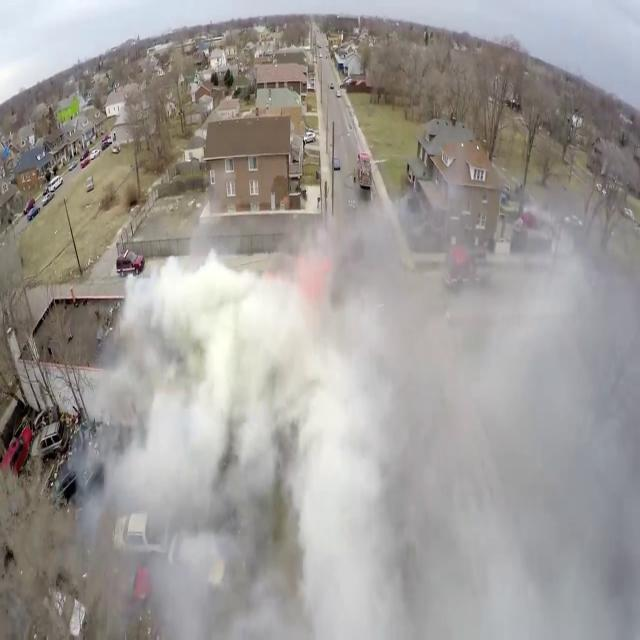Smoke: (45, 178, 640, 637)
